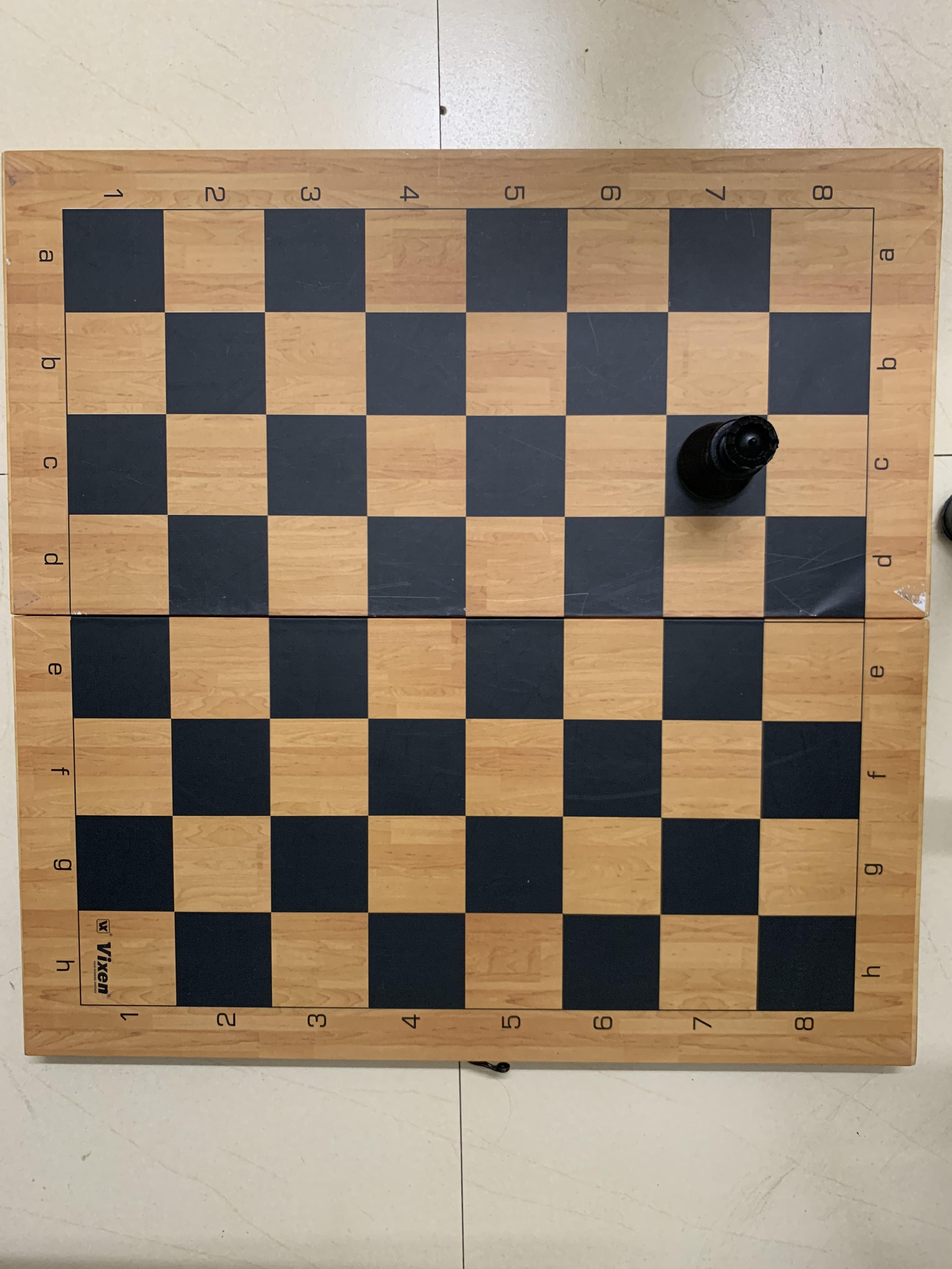black_queen: (664, 412, 781, 517)
